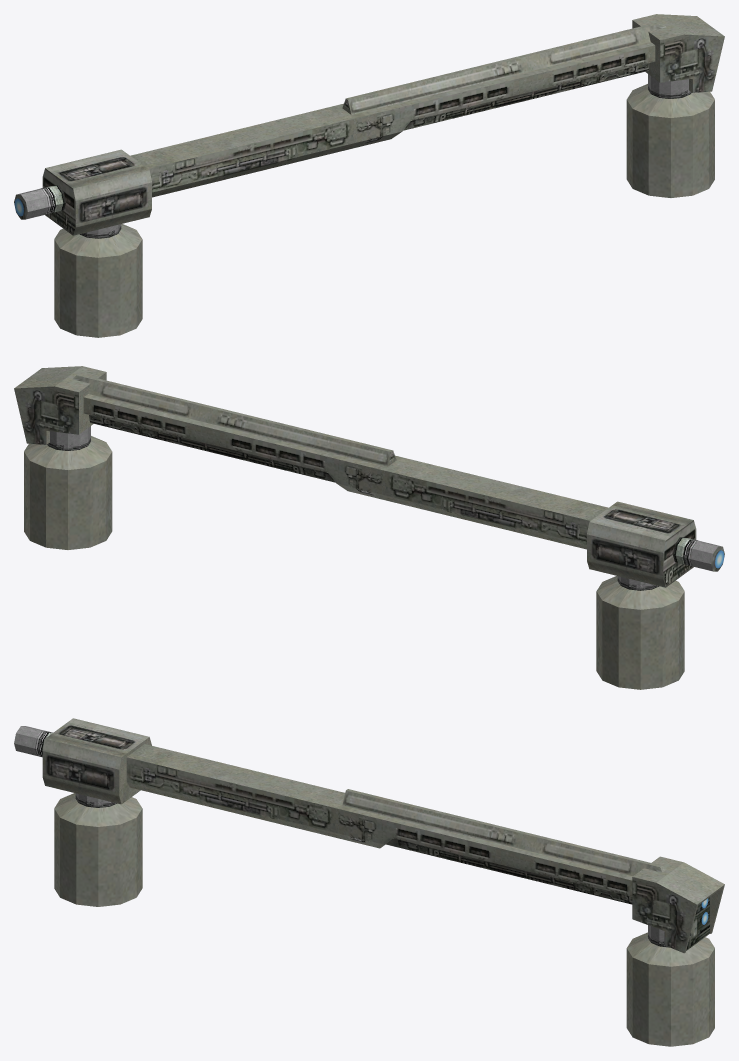
File: thm_corl_power_connector_l0.fbx
The picture shows the model from 3 angles, top to bottom: view 1: azimuth 30°, elevation 25°; view 2: azimuth 150°, elevation 25°; view 3: azimuth 330°, elevation 25°; orthographic projection.
Parts seen in each view (by area): view 1: mesh_node; view 2: mesh_node; view 3: mesh_node.
Boxes of the visible parts, <box> form: mesh_node: <box>14,14,724,337</box>; mesh_node: <box>14,366,724,689</box>; mesh_node: <box>14,718,724,1046</box>.
Bounding box in the file's own units: 9.05 × 1.99 × 1.
